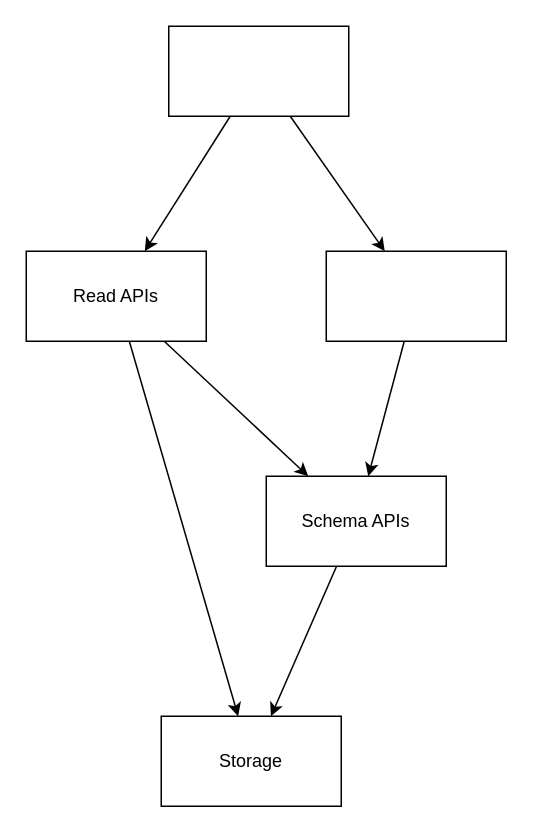
Some shapes in this 533 by 833 pixel diagram are drawn without their labels. The shapes that lost their labels are listed below. From the top down, each one's centre as x and y in pixels, then its label:
At point 258,70: "Client".
At point 415,295: "Write APIs".
